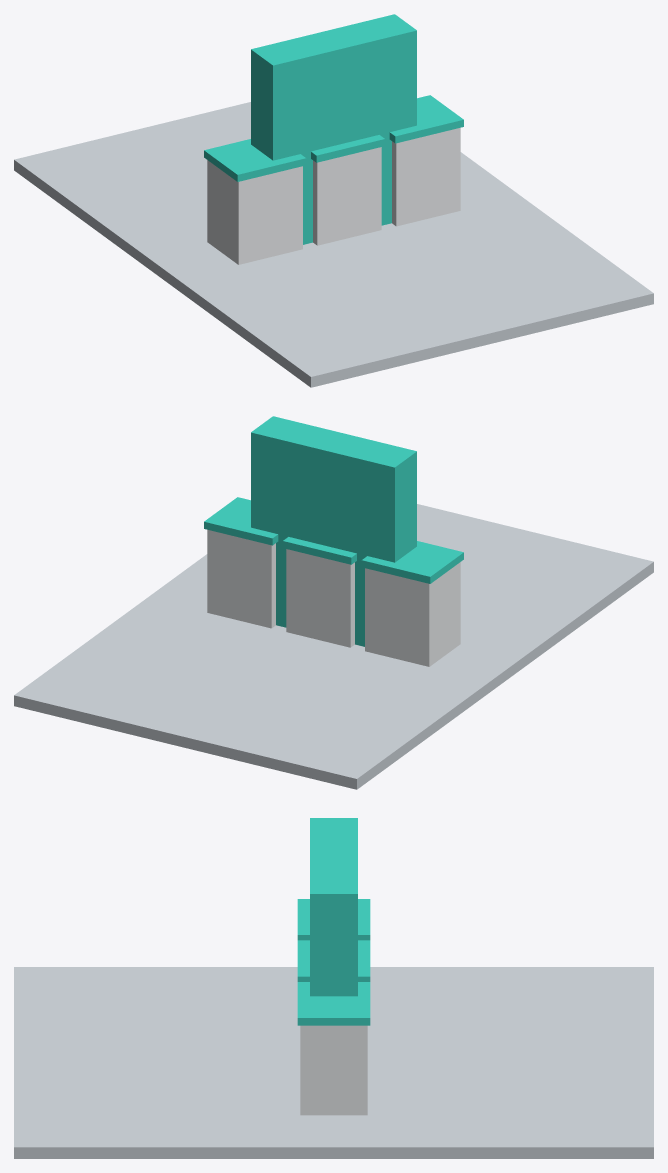
The picture shows the model from 3 angles, top to bottom: view 1: azimuth 30°, elevation 25°; view 2: azimuth 150°, elevation 25°; view 3: azimuth 270°, elevation 25°; orthographic projection. The views are drawn at different scales.
Visible parts, largest first — view 1: Exhibition Booth Concept; view 2: Exhibition Booth Concept; view 3: Exhibition Booth Concept.
Boxes of the visible parts, <box> form: Exhibition Booth Concept: <box>14,14,653,387</box>; Exhibition Booth Concept: <box>14,416,653,789</box>; Exhibition Booth Concept: <box>14,818,653,1158</box>.
Size of the model in its own units: 4 by 2.2 by 6.
